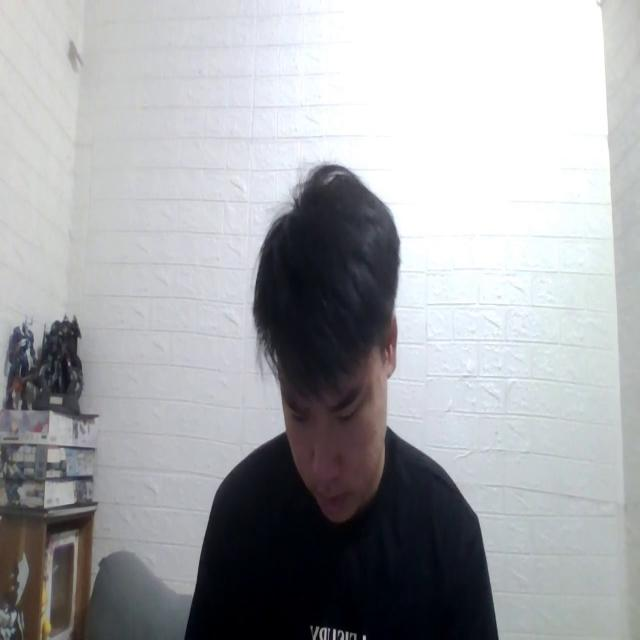student: (180, 159, 500, 640)
